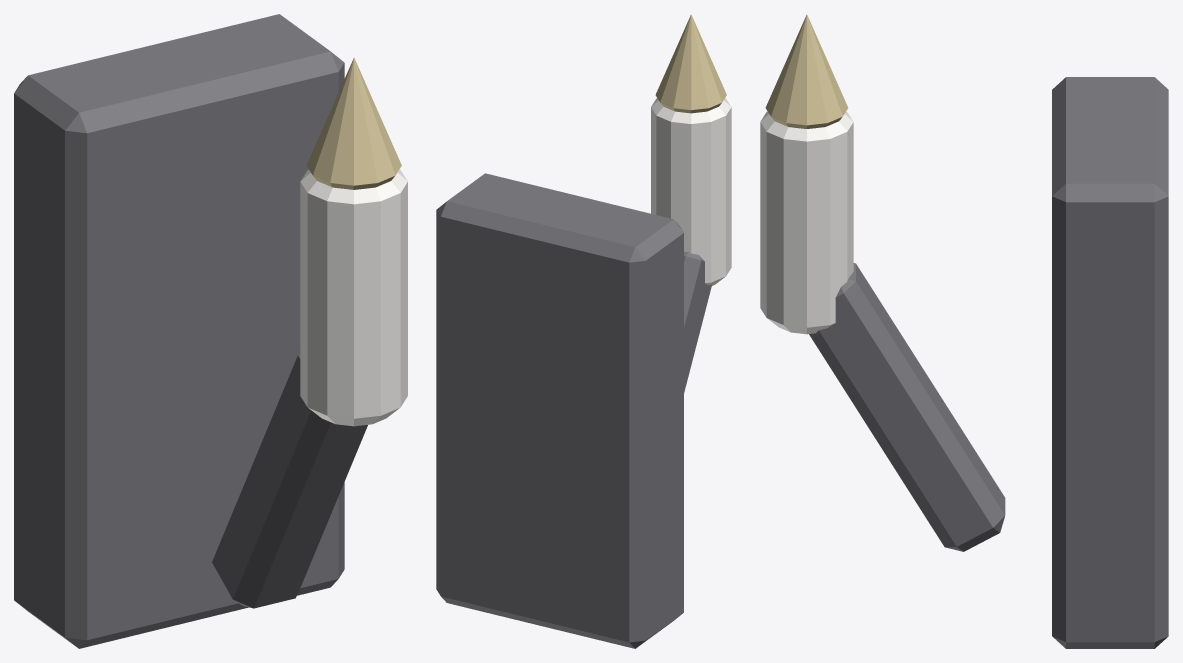
Rendered from SM_Wall_Sconce.fbx.
The picture shows the model from 3 angles, left to right: view 1: azimuth 30°, elevation 25°; view 2: azimuth 150°, elevation 25°; view 3: azimuth 270°, elevation 25°; orthographic projection. The views are drawn at different scales.
Visible parts, largest first — view 1: Wall_Sconce; view 2: Wall_Sconce; view 3: Wall_Sconce.
Boxes of the visible parts, bbox=[...] form: Wall_Sconce: bbox=[14, 14, 407, 648]; Wall_Sconce: bbox=[436, 14, 731, 648]; Wall_Sconce: bbox=[760, 14, 1168, 648].
Size of the model in its own units: 12 by 27.5 by 17.5.
